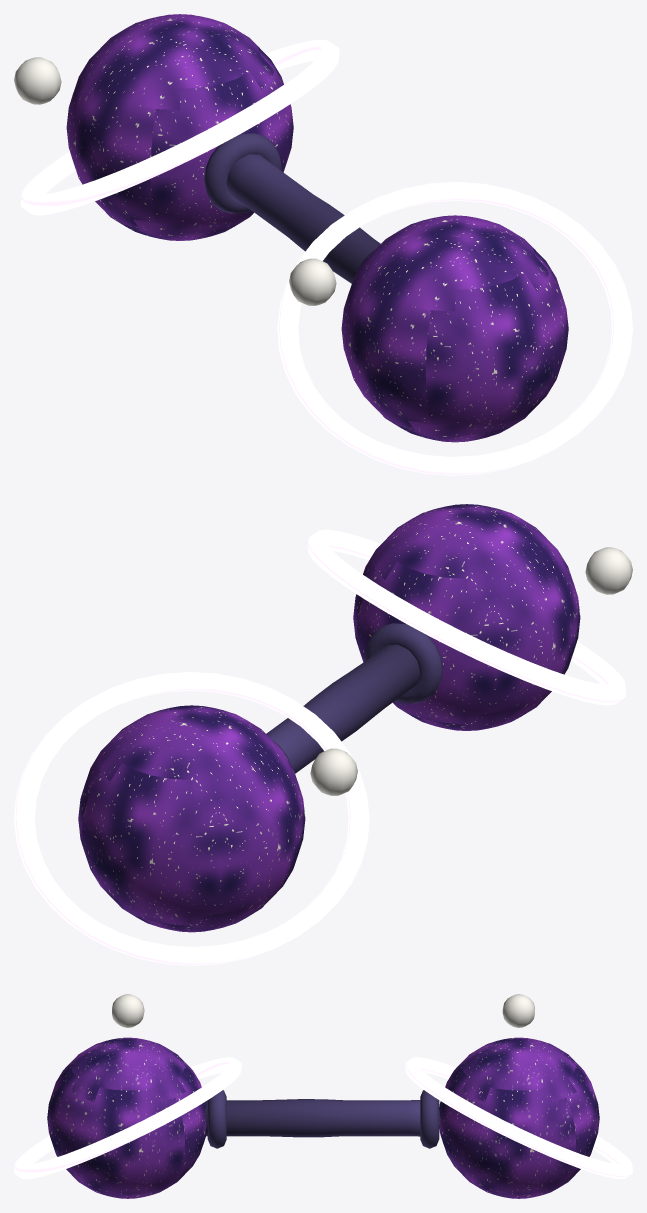
File: GalaxyDumbbell.fbx
3 views of the same model, one above another, from view 1: azimuth 30°, elevation 25°; view 2: azimuth 150°, elevation 25°; view 3: azimuth 270°, elevation 25° (orthographic). The views are drawn at different scales.
Visible parts, largest first — view 1: GalaxyDumbbell, GalaxyDumbbell_Glow; view 2: GalaxyDumbbell, GalaxyDumbbell_Glow; view 3: GalaxyDumbbell, GalaxyDumbbell_Glow.
Part boxes in pixels (x1=…): GalaxyDumbbell: x1=14, y1=14, x2=568, y2=442; GalaxyDumbbell_Glow: x1=20, y1=39, x2=632, y2=475; GalaxyDumbbell: x1=78, y1=504, x2=632, y2=932; GalaxyDumbbell_Glow: x1=14, y1=529, x2=626, y2=965; GalaxyDumbbell: x1=47, y1=994, x2=599, y2=1198; GalaxyDumbbell_Glow: x1=14, y1=1057, x2=632, y2=1179.
Bounding box in the file's own units: 120 × 76 × 291.
2 materials, 1 textured.
